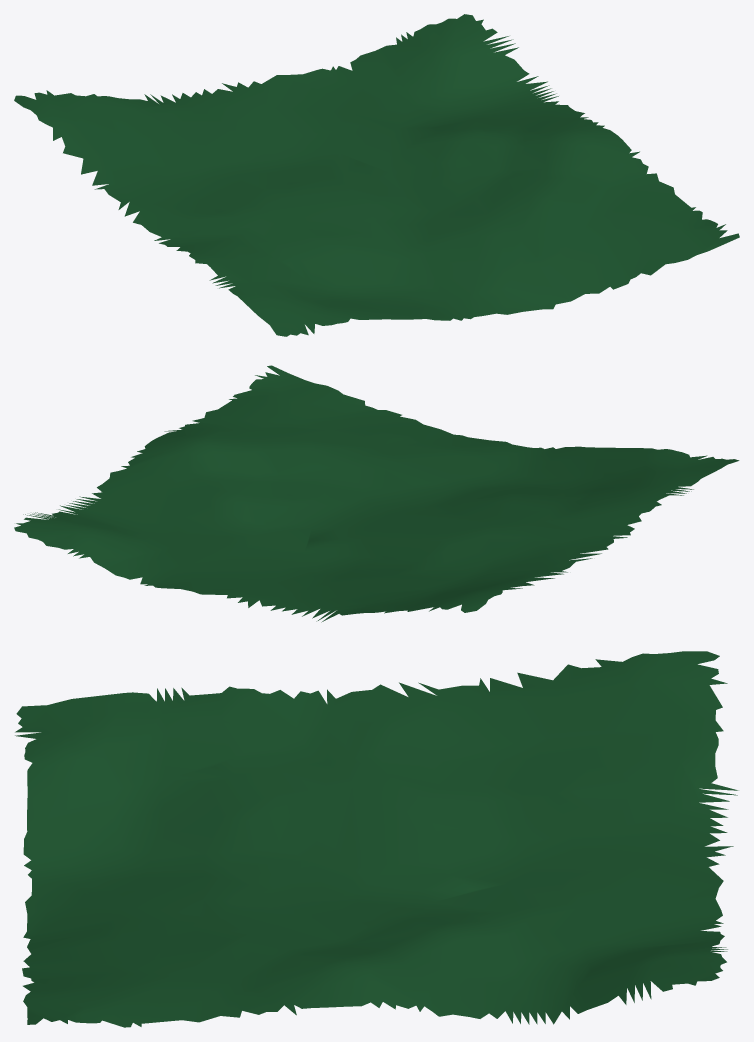
Rendered from payo_land_xm4_y2_lod2.glb.
3 views of the same model, one above another, from view 1: azimuth 30°, elevation 25°; view 2: azimuth 150°, elevation 25°; view 3: azimuth 270°, elevation 25° (orthographic). The views are drawn at different scales.
Parts seen in each view (by area): view 1: payo_land_xm4_y2; view 2: payo_land_xm4_y2; view 3: payo_land_xm4_y2.
Part boxes in pixels (bbox=[...]): payo_land_xm4_y2: bbox=[14, 14, 739, 336]; payo_land_xm4_y2: bbox=[14, 365, 739, 622]; payo_land_xm4_y2: bbox=[15, 651, 738, 1027].
Size of the model in its own units: 270 by 44.95 by 269.
